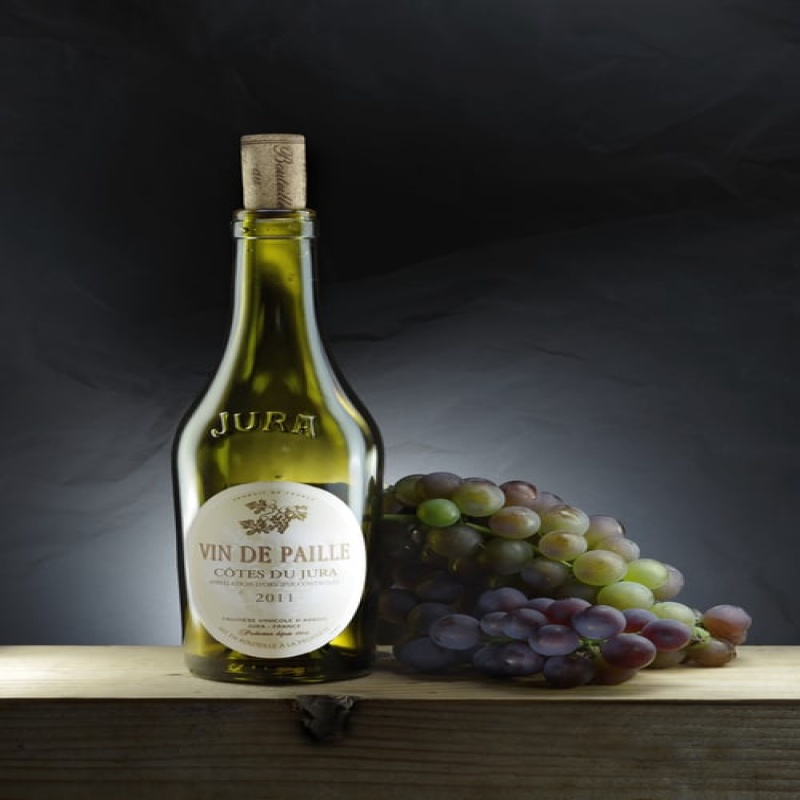wine: (162, 128, 376, 676)
